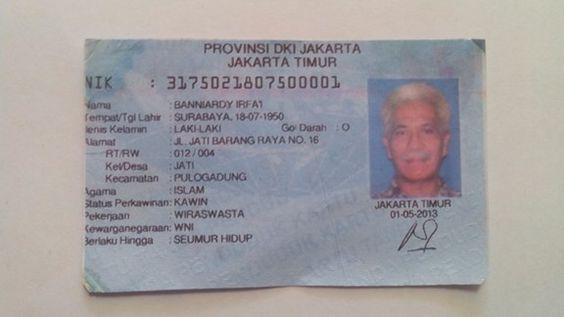ID-card: (86, 40, 488, 289)
